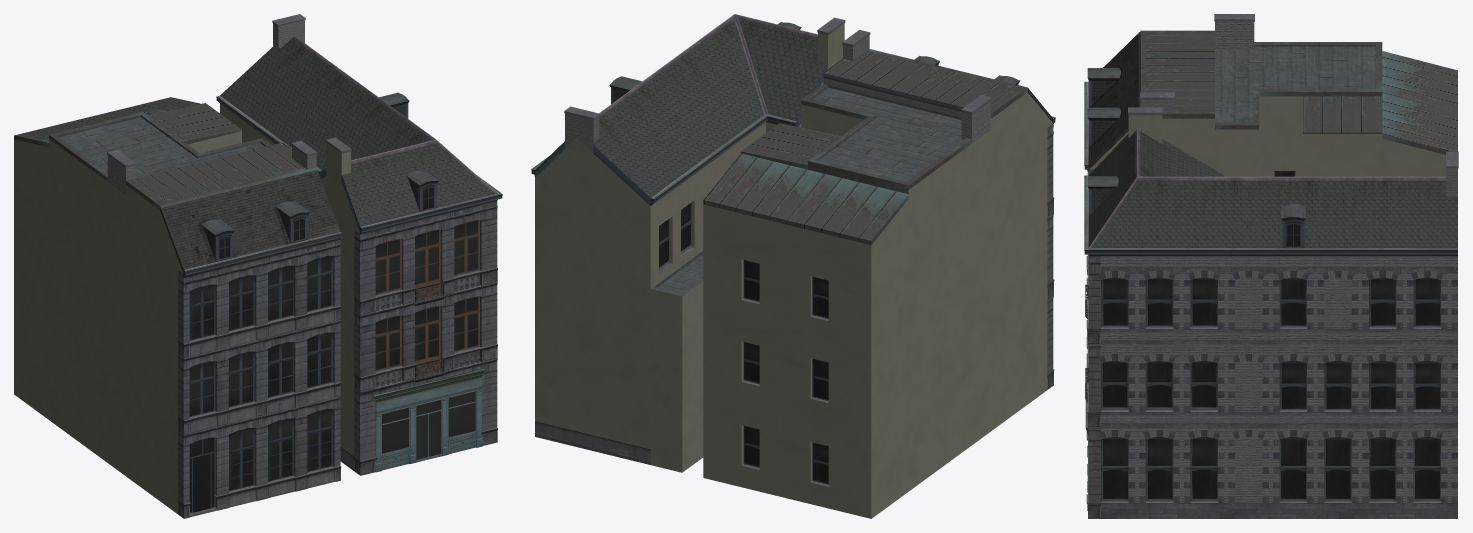
The model's file is mons_shop_2_belgium.glb.
3 views of the same model, side by side, from view 1: azimuth 30°, elevation 25°; view 2: azimuth 150°, elevation 25°; view 3: azimuth 270°, elevation 25° (orthographic). The views are drawn at different scales.
Parts seen in each view (by area): view 1: sketchfab_Material.002_0, sketchfab_Material_0; view 2: sketchfab_Material.002_0, sketchfab_Material_0; view 3: sketchfab_Material_0, sketchfab_Material.002_0.
Boxes of the visible parts, left/top/right/bottom form: sketchfab_Material.002_0: left=14, top=97, right=342, bottom=518; sketchfab_Material_0: left=216, top=14, right=502, bottom=475; sketchfab_Material.002_0: left=703, top=30, right=1055, bottom=518; sketchfab_Material_0: left=531, top=14, right=845, bottom=472; sketchfab_Material_0: left=1084, top=107, right=1458, bottom=518; sketchfab_Material.002_0: left=1084, top=14, right=1457, bottom=361.
Bounding box in the file's own units: 16.2 × 15.17 × 15.2.
Materials: 2 (2 with a texture image).
